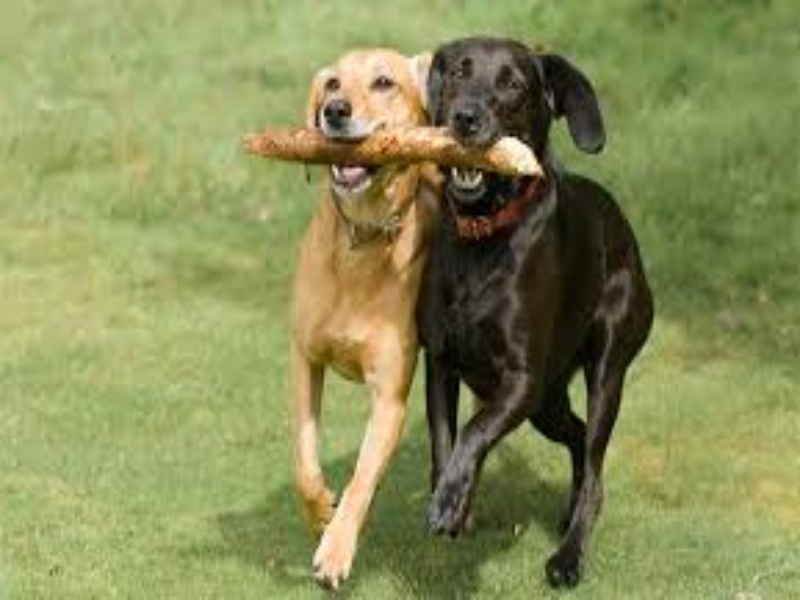dog: (434, 44, 656, 590), (257, 41, 438, 584)
